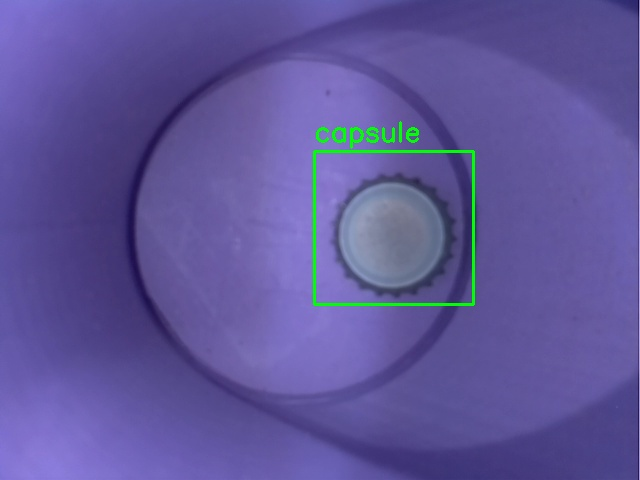capsule: (314, 151, 473, 304)
